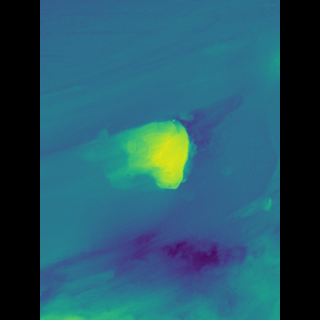Loch: (102, 93, 225, 195)
